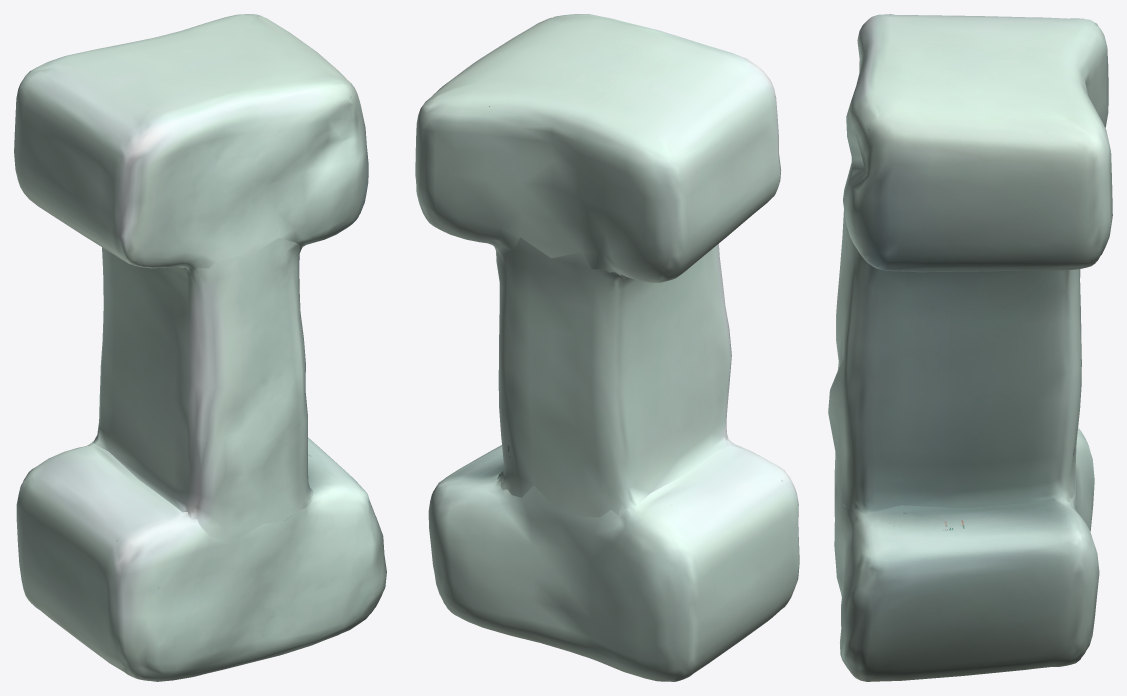
The model's file is Stack 0A - I.glb.
3 views of the same model, side by side, from view 1: azimuth 30°, elevation 25°; view 2: azimuth 150°, elevation 25°; view 3: azimuth 270°, elevation 25° (orthographic). The views are drawn at different scales.
Parts seen in each view (by area): view 1: Stack 0A - I · part 3, Stack 0A - I · part 1, Stack 0A - I · part 2; view 2: Stack 0A - I · part 3, Stack 0A - I · part 1, Stack 0A - I · part 2; view 3: Stack 0A - I · part 3, Stack 0A - I · part 2, Stack 0A - I · part 1.
Part boxes in pixels (x1,y1,x2,y2): Stack 0A - I · part 3: (14, 14, 368, 269); Stack 0A - I · part 1: (16, 437, 386, 681); Stack 0A - I · part 2: (93, 238, 313, 544); Stack 0A - I · part 3: (415, 14, 781, 282); Stack 0A - I · part 1: (428, 440, 799, 681); Stack 0A - I · part 2: (493, 237, 731, 517); Stack 0A - I · part 3: (843, 14, 1112, 272); Stack 0A - I · part 2: (828, 210, 1081, 513); Stack 0A - I · part 1: (834, 428, 1099, 681).
Size of the model in its own units: 0.5142 by 1 by 0.4374.
3 materials, 3 textured.
